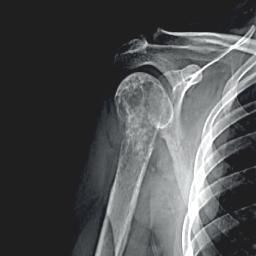cancer: (107, 73, 173, 256)
